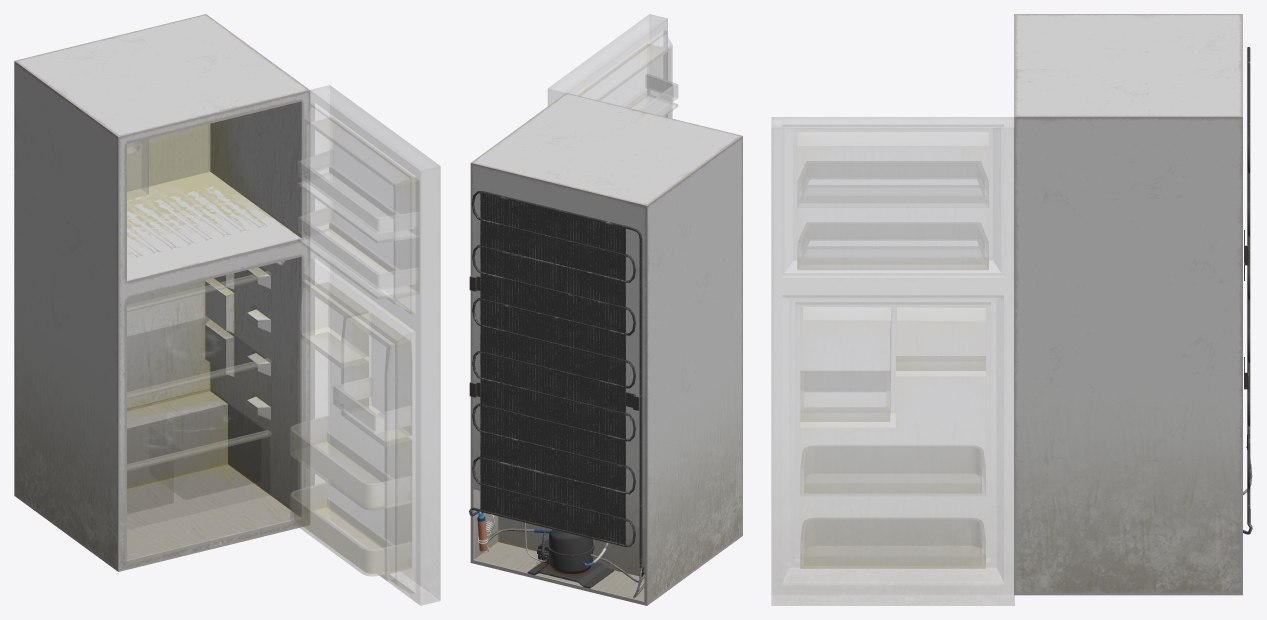
The model's file is old_dirty_fridge.glb.
3 renders of one model, left to right at view 1: azimuth 30°, elevation 25°; view 2: azimuth 150°, elevation 25°; view 3: azimuth 270°, elevation 25°, orthographic. The views are drawn at different scales.
Visible parts, largest first — view 1: Fridge_main, Fridge_door; view 2: Fridge_main, Fridge_door; view 3: Fridge_main, Fridge_door.
Part boxes in pixels (<box>): Fridge_main: <box>14,14,310,571</box>; Fridge_door: <box>290,85,440,605</box>; Fridge_main: <box>469,93,742,605</box>; Fridge_door: <box>548,14,677,118</box>; Fridge_main: <box>1014,14,1252,595</box>; Fridge_door: <box>771,117,1014,605</box>.
Bounding box in the file's own units: 0.7406 × 1.45 × 1.32.
Materials: 3 (3 with a texture image).
